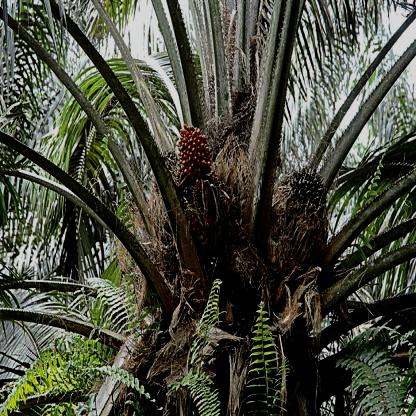1: (177, 121, 210, 186)
palm-oil: (278, 168, 330, 257)
